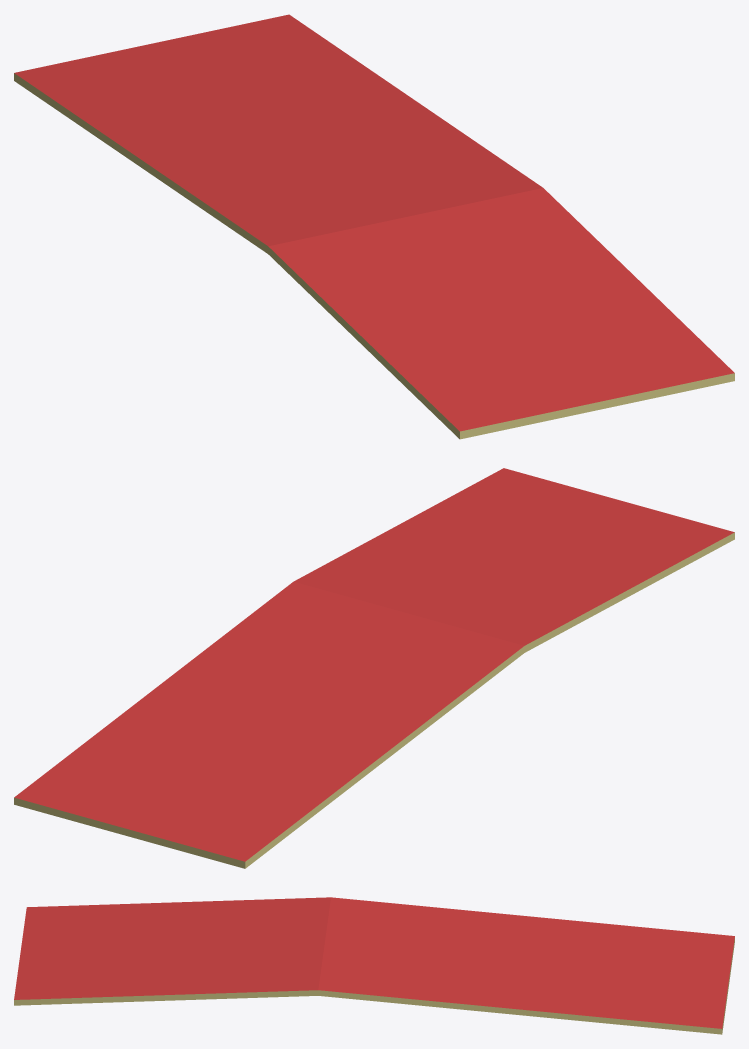
3 renders of one model, top to bottom at view 1: azimuth 30°, elevation 25°; view 2: azimuth 150°, elevation 25°; view 3: azimuth 270°, elevation 25°, orthographic. The views are drawn at different scales.
Bounding box in the file's own units: 4.16 × 11.5 × 0.608.
